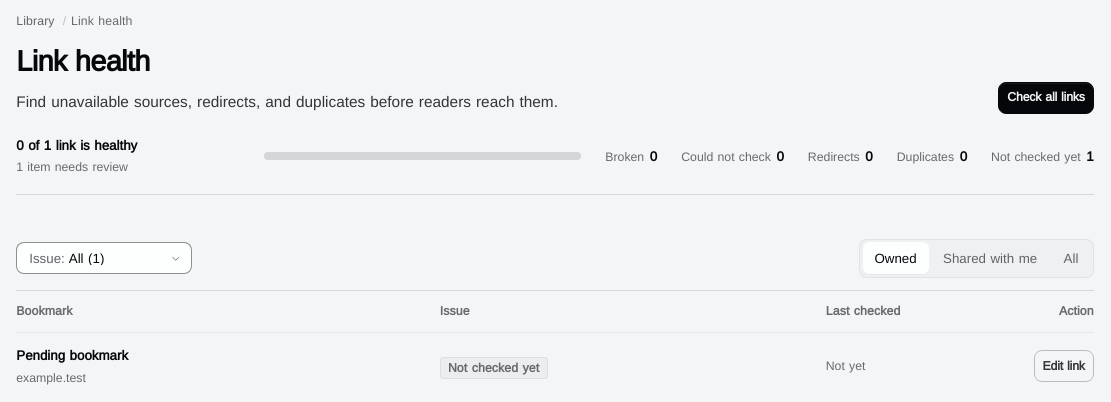
Test: LibraryHealth Product wiring › appends membership beside the resource only for shared and all scopes
Check: the element with test id "health-resource" does not show "Editor"
Click the radio button labelled "Shared with me". click: (990, 258)
box: [931,242,1049,274]
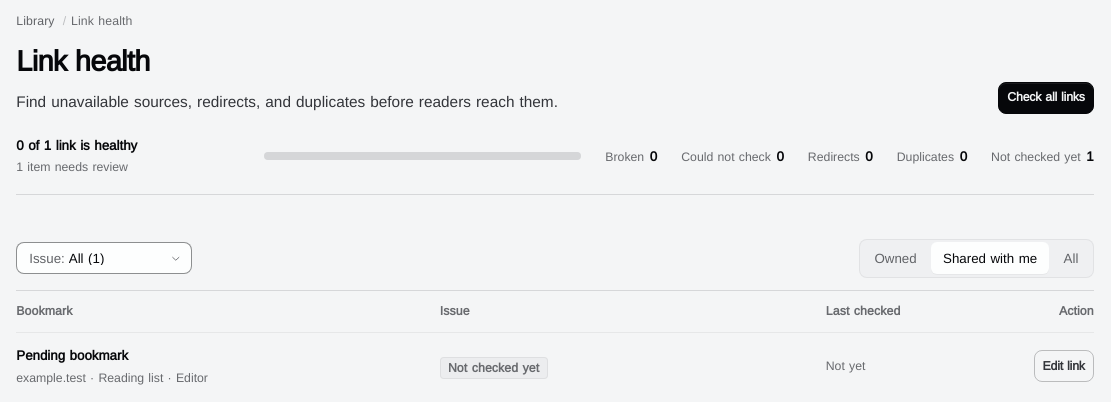
Check: the cell with test id "health-resource" shows "Editor", box [16,370,208,385]
Check: the cell with test id "health-resource" shows "Reading list", box [16,370,208,385]
Click the radio button labelled "All". click: (1071, 258)
box: [1052,242,1090,274]
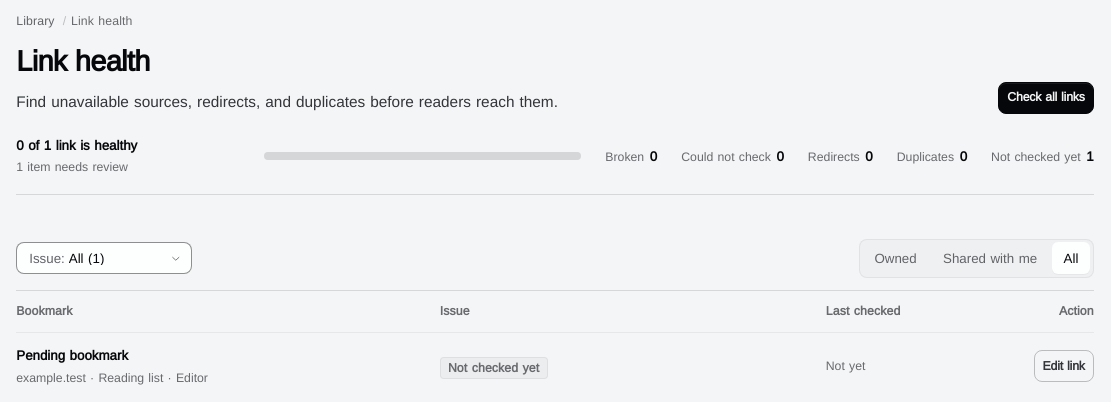
Check: the cell with test id "health-resource" shows "Editor", box [16,370,208,385]
Click the radio button labelled "Owned". click: (896, 258)
box: [862,242,929,274]
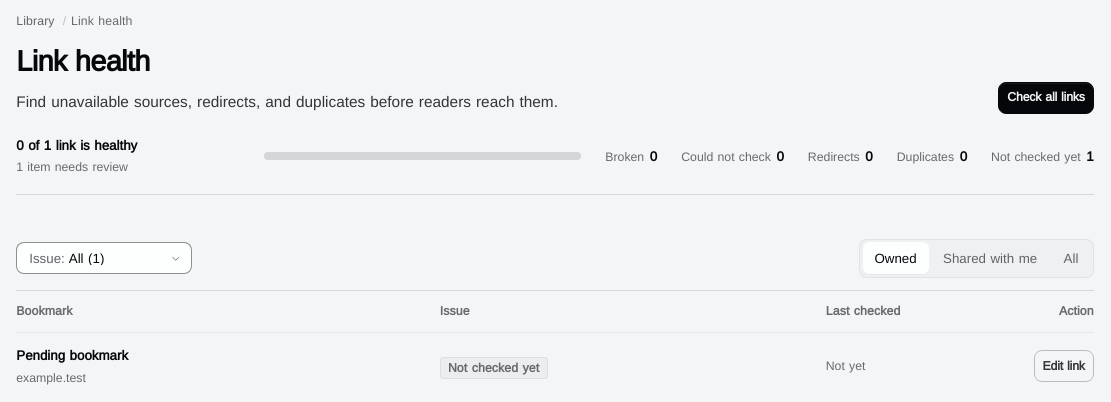
Check: the text with test id "health-resource" no longer shows "Editor"
